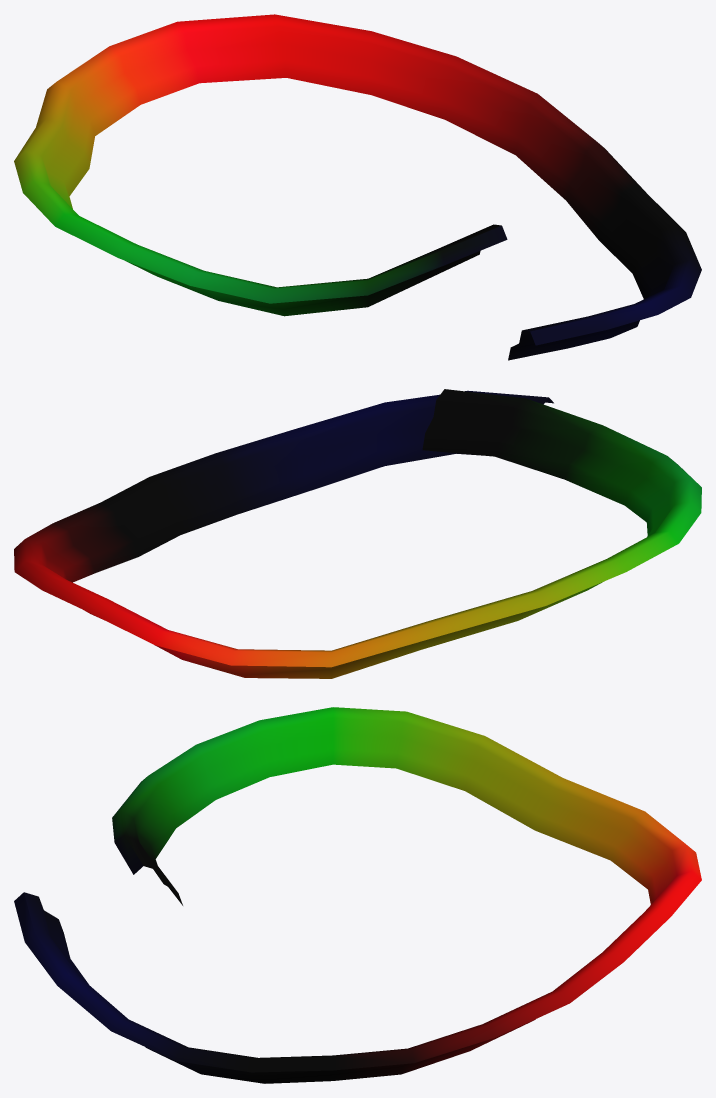
Rendered from uni_ring_warped.fbx.
3 views of the same model, one above another, from view 1: azimuth 30°, elevation 25°; view 2: azimuth 150°, elevation 25°; view 3: azimuth 270°, elevation 25° (orthographic). The views are drawn at different scales.
Parts seen in each view (by area): view 1: uni_ring_warped; view 2: uni_ring_warped; view 3: uni_ring_warped.
Part boxes in pixels (x1,y1,x2,y2): uni_ring_warped: (14, 14, 701, 360); uni_ring_warped: (14, 389, 701, 678); uni_ring_warped: (14, 707, 701, 1083).
Size of the model in its own units: 27600 by 24766 by 6400.
